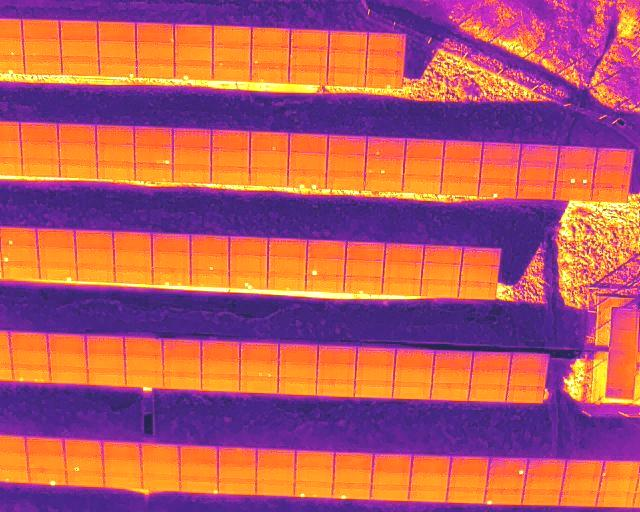Cell: (250, 131, 289, 150), (367, 138, 405, 157), (251, 64, 289, 83), (134, 146, 173, 164), (191, 253, 229, 271), (99, 60, 138, 77), (252, 47, 290, 64), (213, 63, 251, 80), (307, 258, 344, 275), (489, 458, 526, 475), (0, 246, 39, 262), (344, 277, 382, 293), (268, 274, 306, 290), (0, 229, 37, 245), (28, 470, 65, 486), (366, 72, 403, 88), (332, 484, 370, 499), (180, 478, 218, 493), (175, 64, 213, 79), (65, 457, 102, 472), (40, 264, 77, 279), (486, 489, 522, 504), (479, 183, 517, 196)
Cell-Multi: (365, 158, 404, 177), (241, 359, 278, 377), (556, 168, 595, 185), (12, 365, 50, 382), (230, 273, 268, 289), (294, 482, 332, 498), (287, 171, 325, 187), (153, 270, 191, 285)
No-Anomaly: (558, 148, 599, 168), (517, 166, 557, 186), (481, 143, 521, 163), (98, 39, 136, 60), (191, 234, 230, 254), (406, 141, 445, 161), (327, 154, 366, 174), (441, 161, 480, 181), (291, 29, 329, 49), (98, 22, 136, 42), (289, 152, 327, 172), (327, 51, 367, 70), (592, 168, 631, 187), (329, 31, 368, 50), (424, 244, 463, 263), (480, 163, 519, 182), (367, 52, 404, 72), (136, 42, 174, 61), (175, 26, 213, 45), (22, 20, 60, 39), (423, 262, 461, 281), (346, 242, 384, 261), (97, 144, 135, 163), (520, 146, 558, 165), (36, 229, 76, 247), (253, 28, 290, 47), (367, 33, 404, 52), (443, 142, 482, 160), (75, 230, 114, 248), (385, 244, 424, 262), (162, 339, 201, 357), (345, 259, 384, 277), (229, 237, 268, 255), (249, 151, 288, 169), (173, 147, 211, 165), (355, 381, 393, 399), (431, 383, 469, 401), (152, 233, 190, 251), (396, 348, 434, 366), (357, 347, 395, 365), (114, 249, 152, 267), (60, 21, 98, 39), (268, 239, 306, 257), (308, 240, 346, 258), (213, 45, 251, 63), (213, 27, 251, 45), (463, 246, 499, 265), (511, 353, 547, 372), (58, 125, 95, 143), (290, 50, 327, 68), (24, 56, 61, 74), (596, 150, 633, 168), (59, 143, 96, 161), (317, 380, 354, 398), (279, 378, 316, 396), (136, 23, 171, 42), (61, 40, 100, 57), (96, 126, 135, 143), (404, 160, 443, 177), (268, 257, 307, 274), (124, 337, 163, 354), (113, 232, 152, 249), (382, 278, 421, 295), (136, 61, 175, 78), (211, 131, 250, 148), (334, 453, 373, 470), (289, 65, 328, 82), (461, 264, 497, 282), (22, 141, 58, 159), (135, 129, 173, 146), (153, 252, 191, 269), (230, 255, 268, 272), (77, 248, 115, 265), (211, 149, 249, 166), (280, 345, 318, 362), (241, 343, 279, 360), (421, 280, 459, 297), (175, 45, 213, 62), (434, 351, 472, 368), (473, 352, 511, 369), (385, 262, 423, 279), (471, 369, 509, 386), (218, 448, 256, 465), (50, 366, 88, 383), (328, 137, 366, 154), (394, 366, 432, 383), (25, 437, 65, 453), (60, 161, 97, 178), (393, 383, 430, 400), (566, 460, 603, 477), (24, 40, 61, 57), (181, 446, 218, 463), (413, 456, 450, 473), (290, 135, 327, 152), (211, 166, 248, 183), (468, 386, 507, 402), (527, 459, 566, 475), (201, 342, 240, 358), (374, 454, 413, 470), (141, 444, 180, 460), (249, 169, 288, 185), (317, 363, 356, 379), (21, 124, 57, 141), (600, 477, 638, 493), (257, 449, 295, 465), (318, 346, 356, 362), (295, 451, 333, 467), (450, 457, 488, 473), (62, 58, 100, 74), (173, 165, 211, 181), (39, 248, 77, 264), (134, 164, 172, 180), (66, 440, 103, 456), (103, 442, 140, 458), (49, 335, 86, 351), (87, 338, 124, 354), (447, 488, 484, 504), (163, 373, 200, 389), (88, 369, 125, 385), (240, 377, 277, 393), (125, 355, 162, 371), (369, 486, 408, 501), (141, 461, 180, 476), (191, 271, 230, 286), (77, 266, 116, 281), (295, 467, 334, 482), (402, 177, 441, 192), (202, 359, 241, 374), (448, 474, 487, 489), (516, 185, 555, 200), (604, 461, 640, 477), (459, 282, 495, 298), (218, 464, 256, 479), (522, 489, 560, 504), (333, 469, 371, 484), (562, 476, 600, 491), (257, 481, 295, 496), (218, 480, 256, 495), (163, 357, 201, 372), (257, 465, 295, 480), (180, 463, 218, 478), (371, 471, 409, 486), (1, 263, 39, 278), (279, 362, 317, 377), (356, 365, 394, 380), (327, 71, 365, 86), (11, 349, 49, 364), (598, 492, 635, 507), (173, 131, 210, 146), (525, 474, 562, 489), (50, 351, 87, 366), (125, 371, 162, 386), (433, 368, 470, 383), (97, 163, 134, 178), (66, 472, 105, 486), (553, 186, 592, 200), (201, 375, 240, 389), (507, 388, 543, 403), (509, 372, 545, 387), (23, 160, 59, 175), (560, 491, 598, 505), (115, 268, 153, 282), (364, 177, 402, 191), (410, 473, 448, 487), (409, 488, 447, 502), (27, 454, 65, 468), (104, 473, 141, 487), (11, 334, 48, 348), (307, 276, 344, 290), (104, 459, 141, 473), (87, 354, 124, 368), (488, 474, 524, 488), (591, 187, 629, 200), (141, 476, 179, 488), (440, 182, 478, 194), (326, 176, 364, 188)
